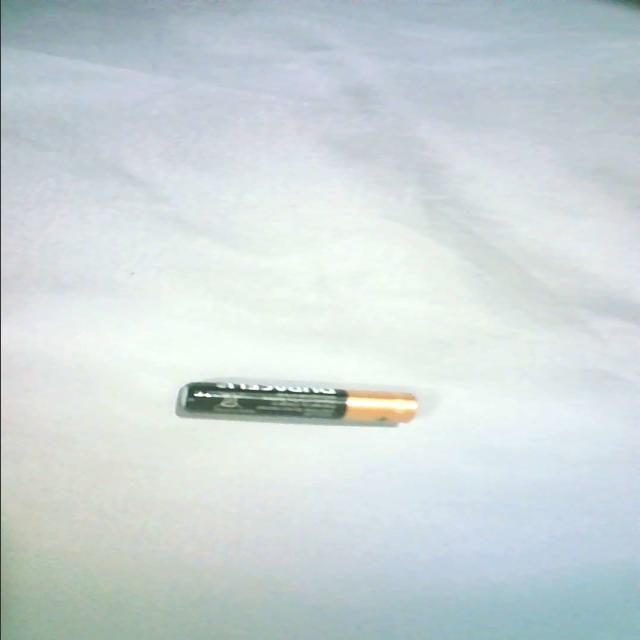AAA: (170, 378, 428, 429)
